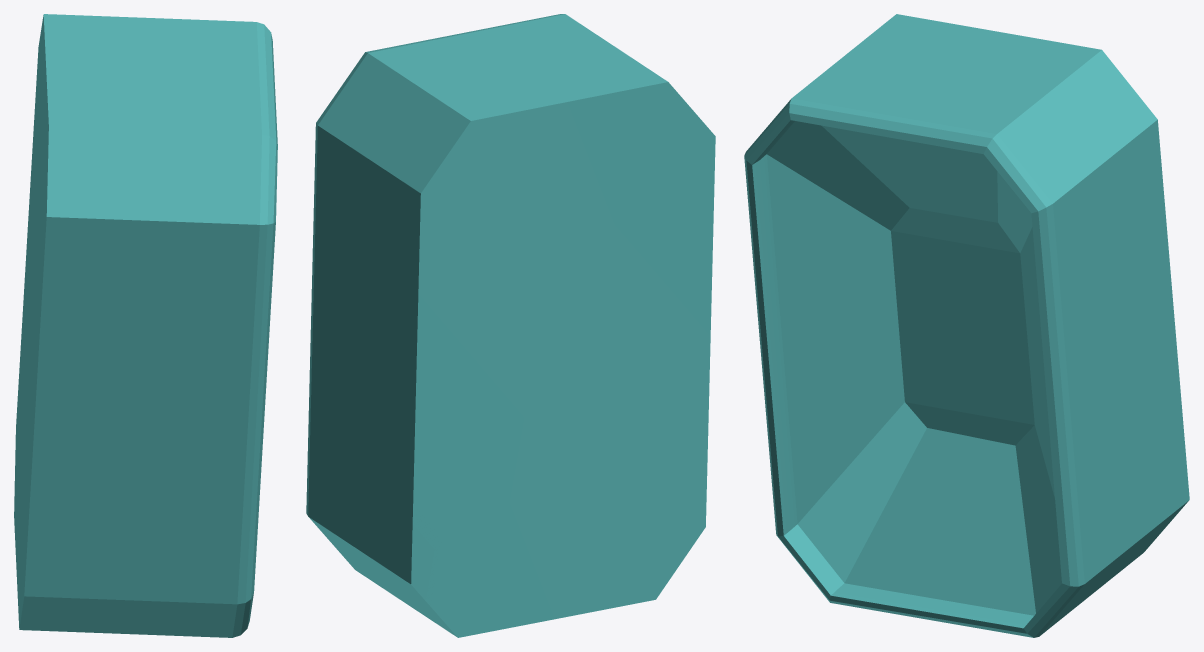
File: BR4_8shapes_Emerald_Classic_Metal.001 3.glb
3 renders of one model, left to right at view 1: azimuth 30°, elevation 25°; view 2: azimuth 150°, elevation 25°; view 3: azimuth 270°, elevation 25°, orthographic. The views are drawn at different scales.
Visible parts, largest first — view 1: BR4_8shapes_Emerald_Classic_Metal.001; view 2: BR4_8shapes_Emerald_Classic_Metal.001; view 3: BR4_8shapes_Emerald_Classic_Metal.001.
Part boxes in pixels (bbox=[...]): BR4_8shapes_Emerald_Classic_Metal.001: bbox=[14, 14, 277, 637]; BR4_8shapes_Emerald_Classic_Metal.001: bbox=[306, 14, 715, 637]; BR4_8shapes_Emerald_Classic_Metal.001: bbox=[744, 14, 1189, 637].
Size of the model in its own units: 0.419 by 0.6687 by 0.5123.
